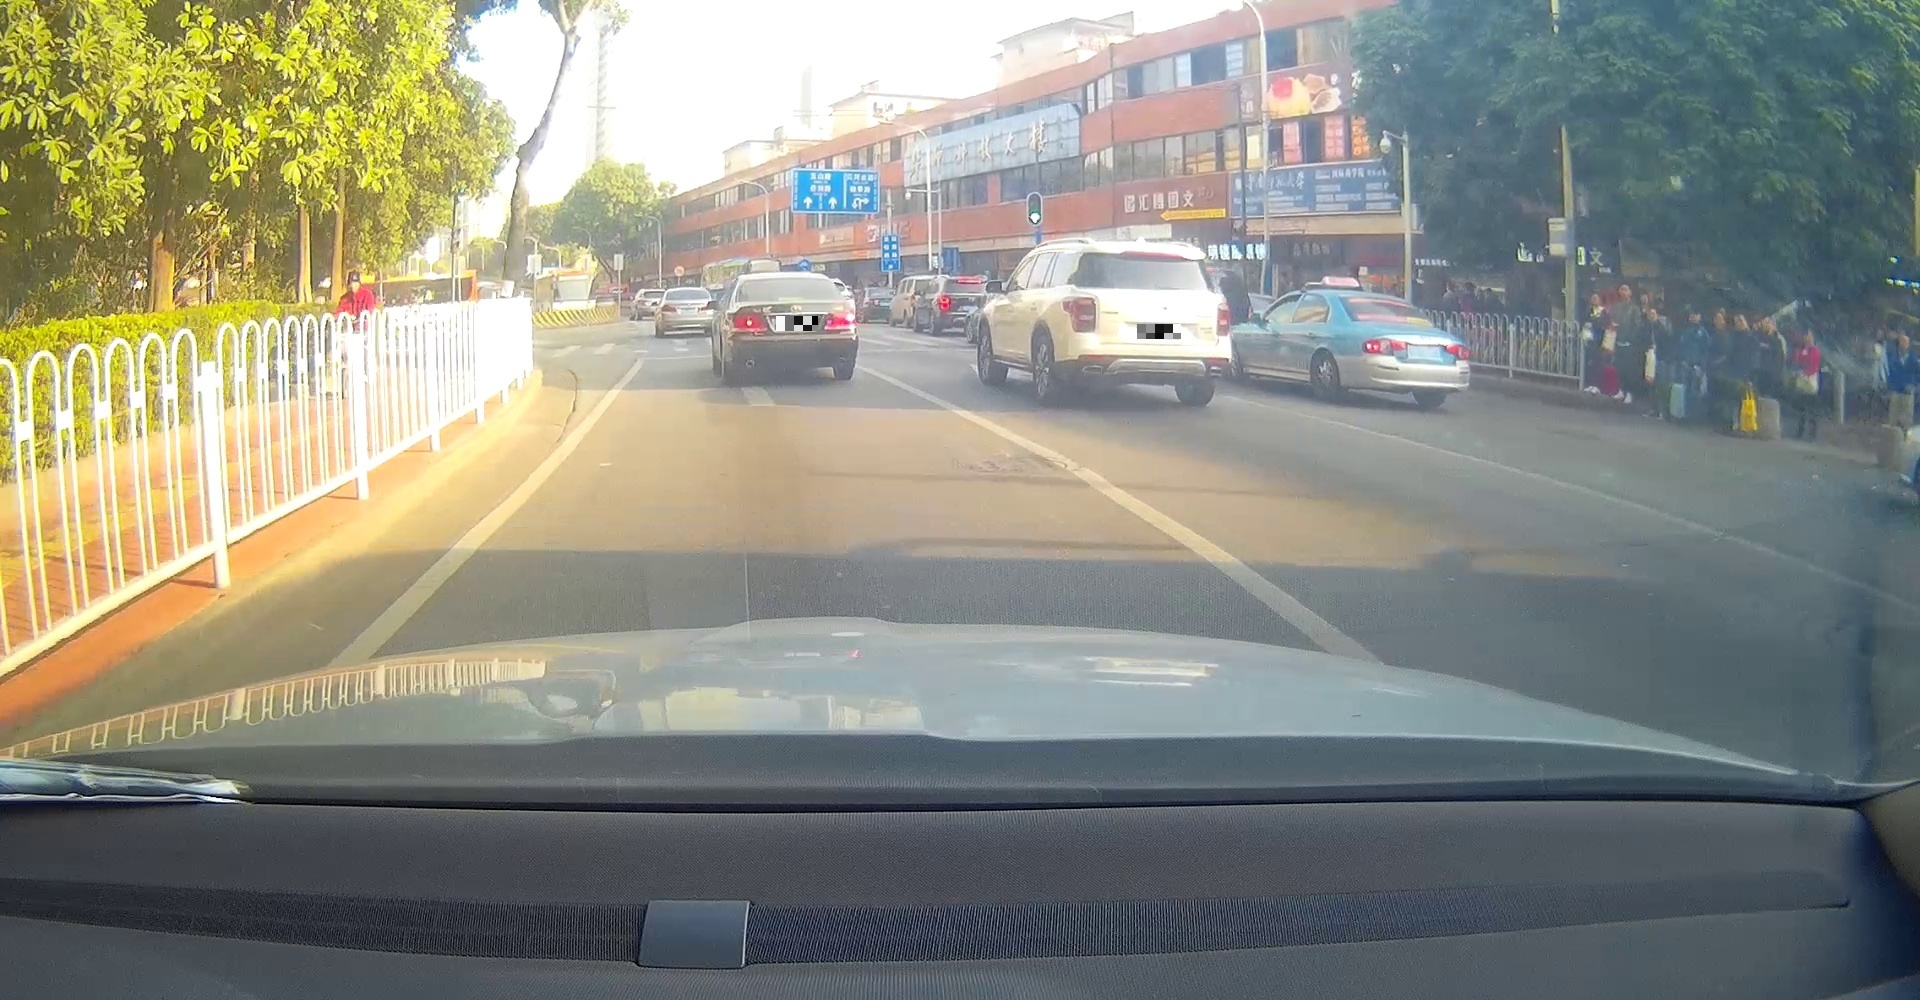L_light: (1062, 296, 1098, 332), (1363, 338, 1407, 357), (731, 313, 767, 330)
R_light: (825, 312, 858, 330), (1217, 302, 1232, 338), (1446, 341, 1470, 360)
T_light: (1121, 254, 1161, 261), (1379, 299, 1403, 306), (778, 297, 803, 302)
day-no: (1057, 250, 1232, 406), (1337, 292, 1470, 409), (725, 275, 858, 379)
plate_1: (776, 316, 818, 331)
plate_2: (1137, 324, 1181, 339)
